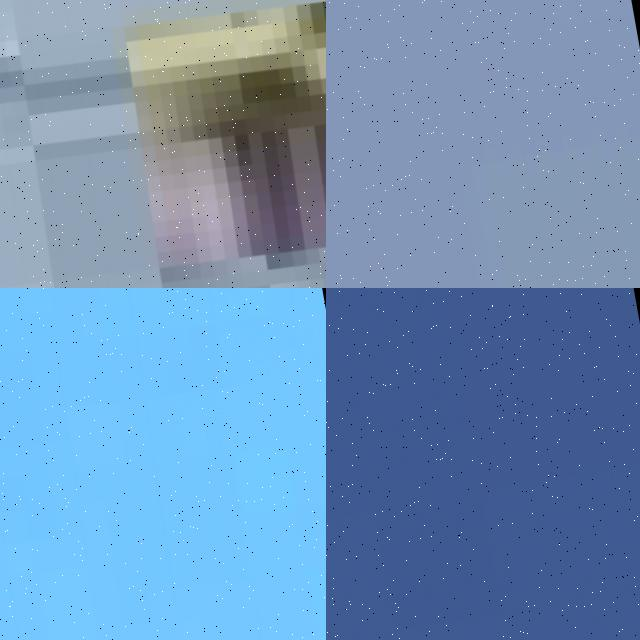0: (0, 0, 326, 288)
drone: (0, 288, 326, 640)
